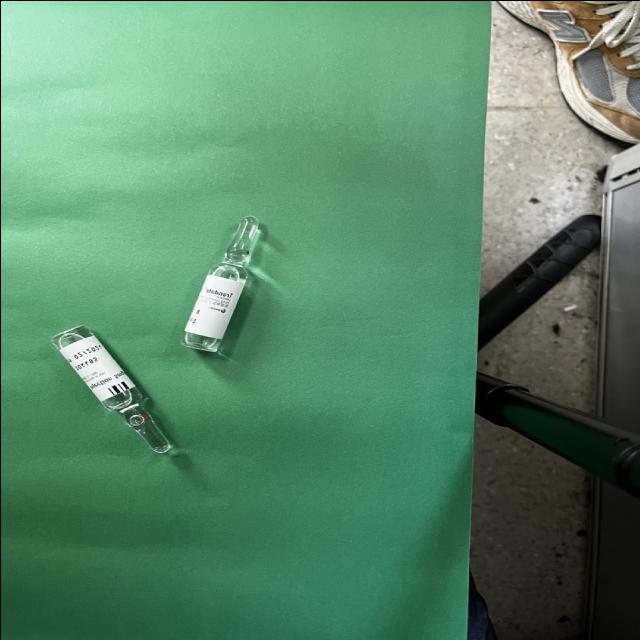Ampoules: (51, 326, 172, 453), (184, 215, 260, 352)
